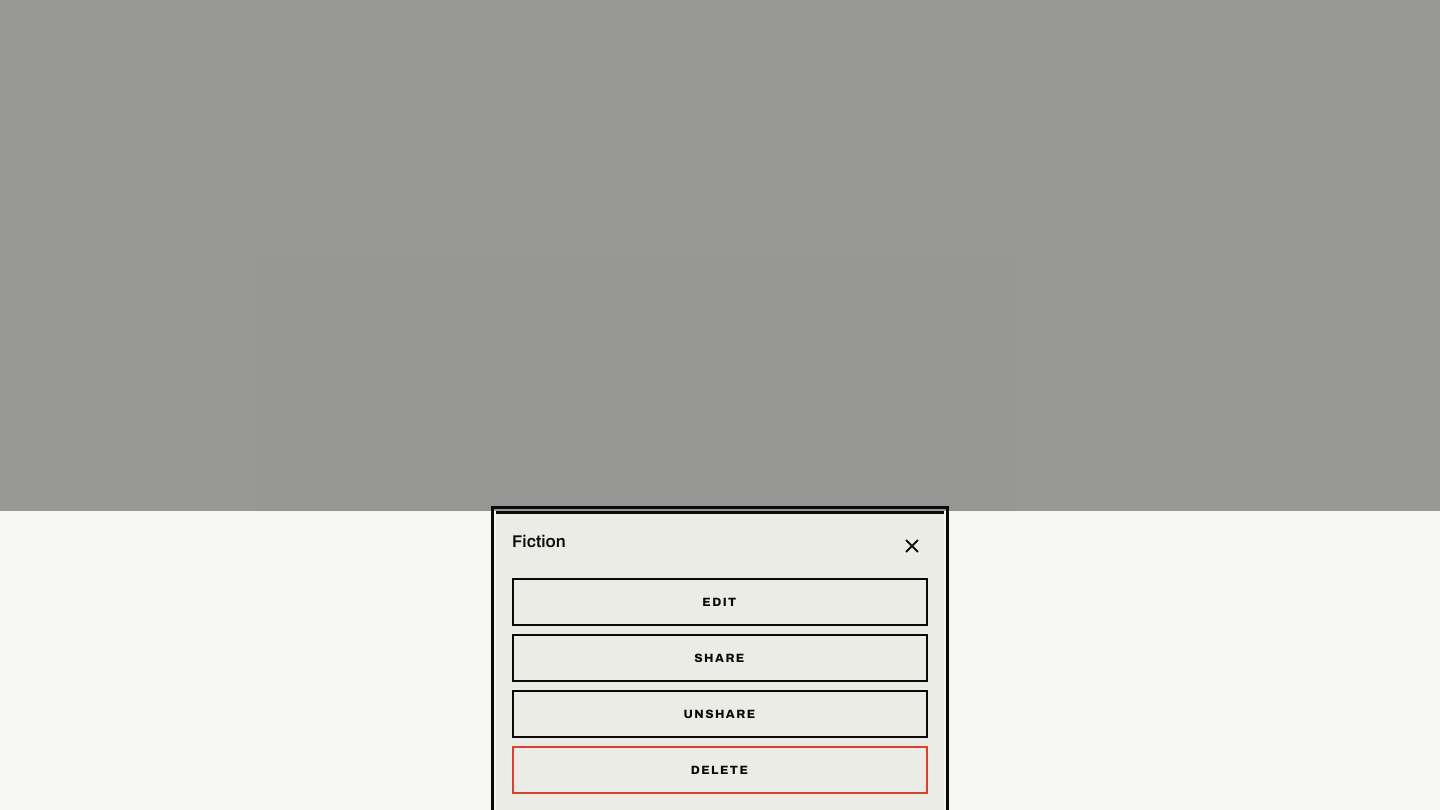
Scenario: LibraryActionsSheet › confirms deletion in place, before acting, and says what is destroyed
Click the button "Delete". click: (720, 770)
box: left=512, top=746, right=928, bottom=794
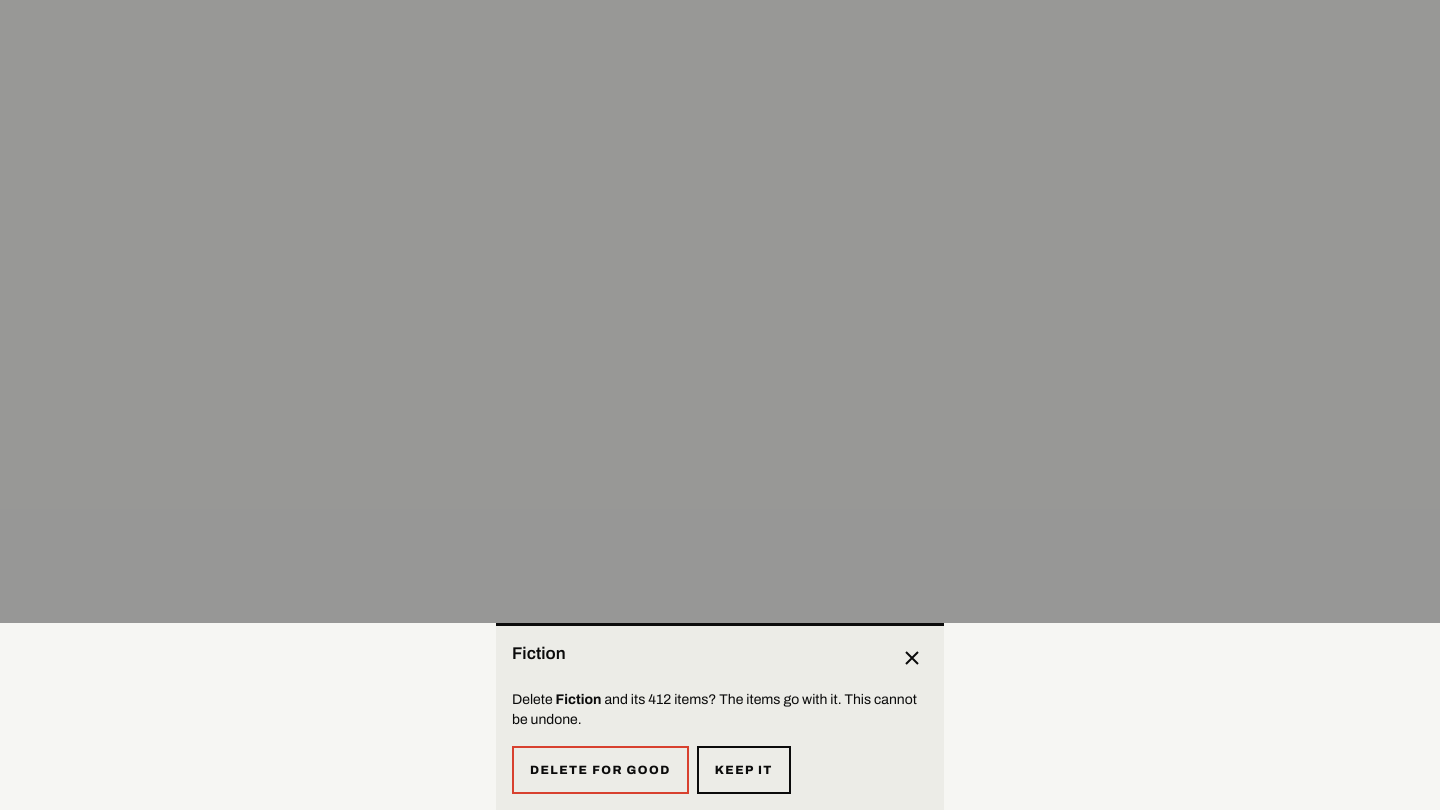
Now the text "412 items" is shown, box left=512, top=690, right=928, bottom=730
Now the text "cannot be undone" is shown, box left=512, top=692, right=917, bottom=727
